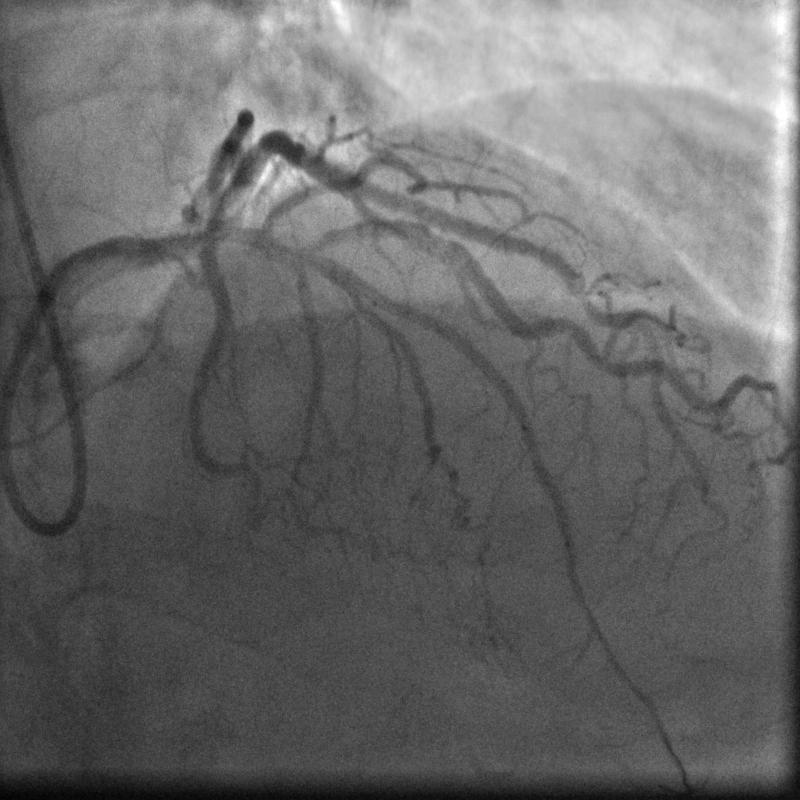Stenosis: (414, 215, 462, 258)
